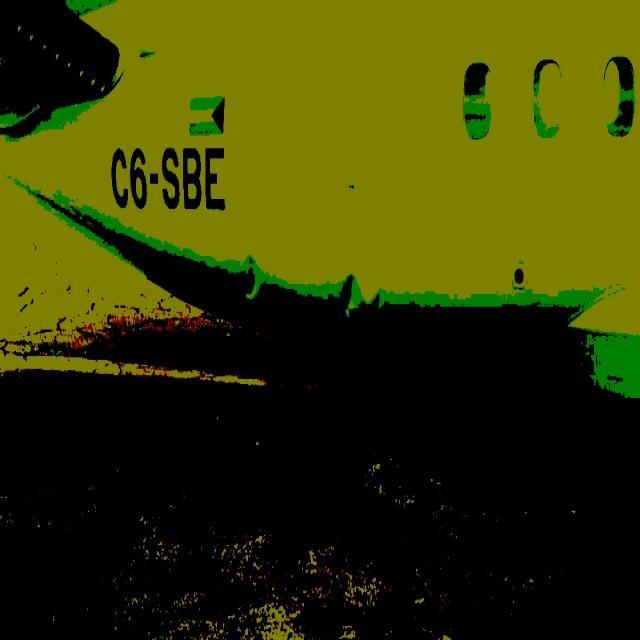dent: (236, 243, 394, 342)
